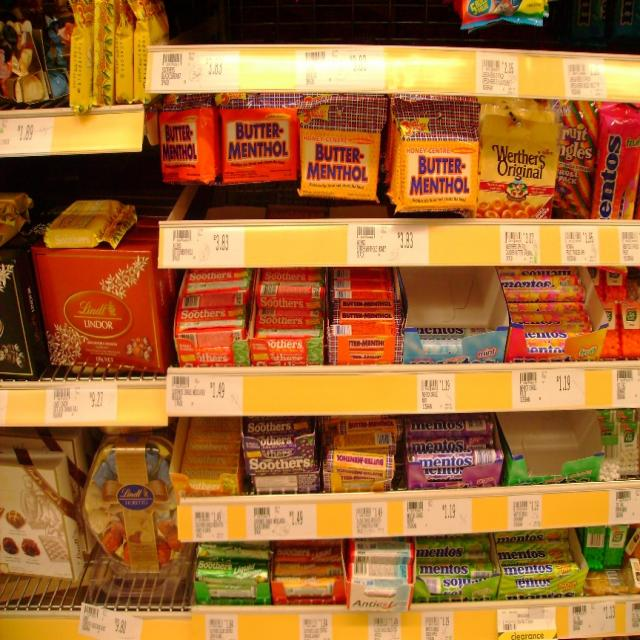q265: (294, 114, 384, 210), (398, 130, 483, 217)
